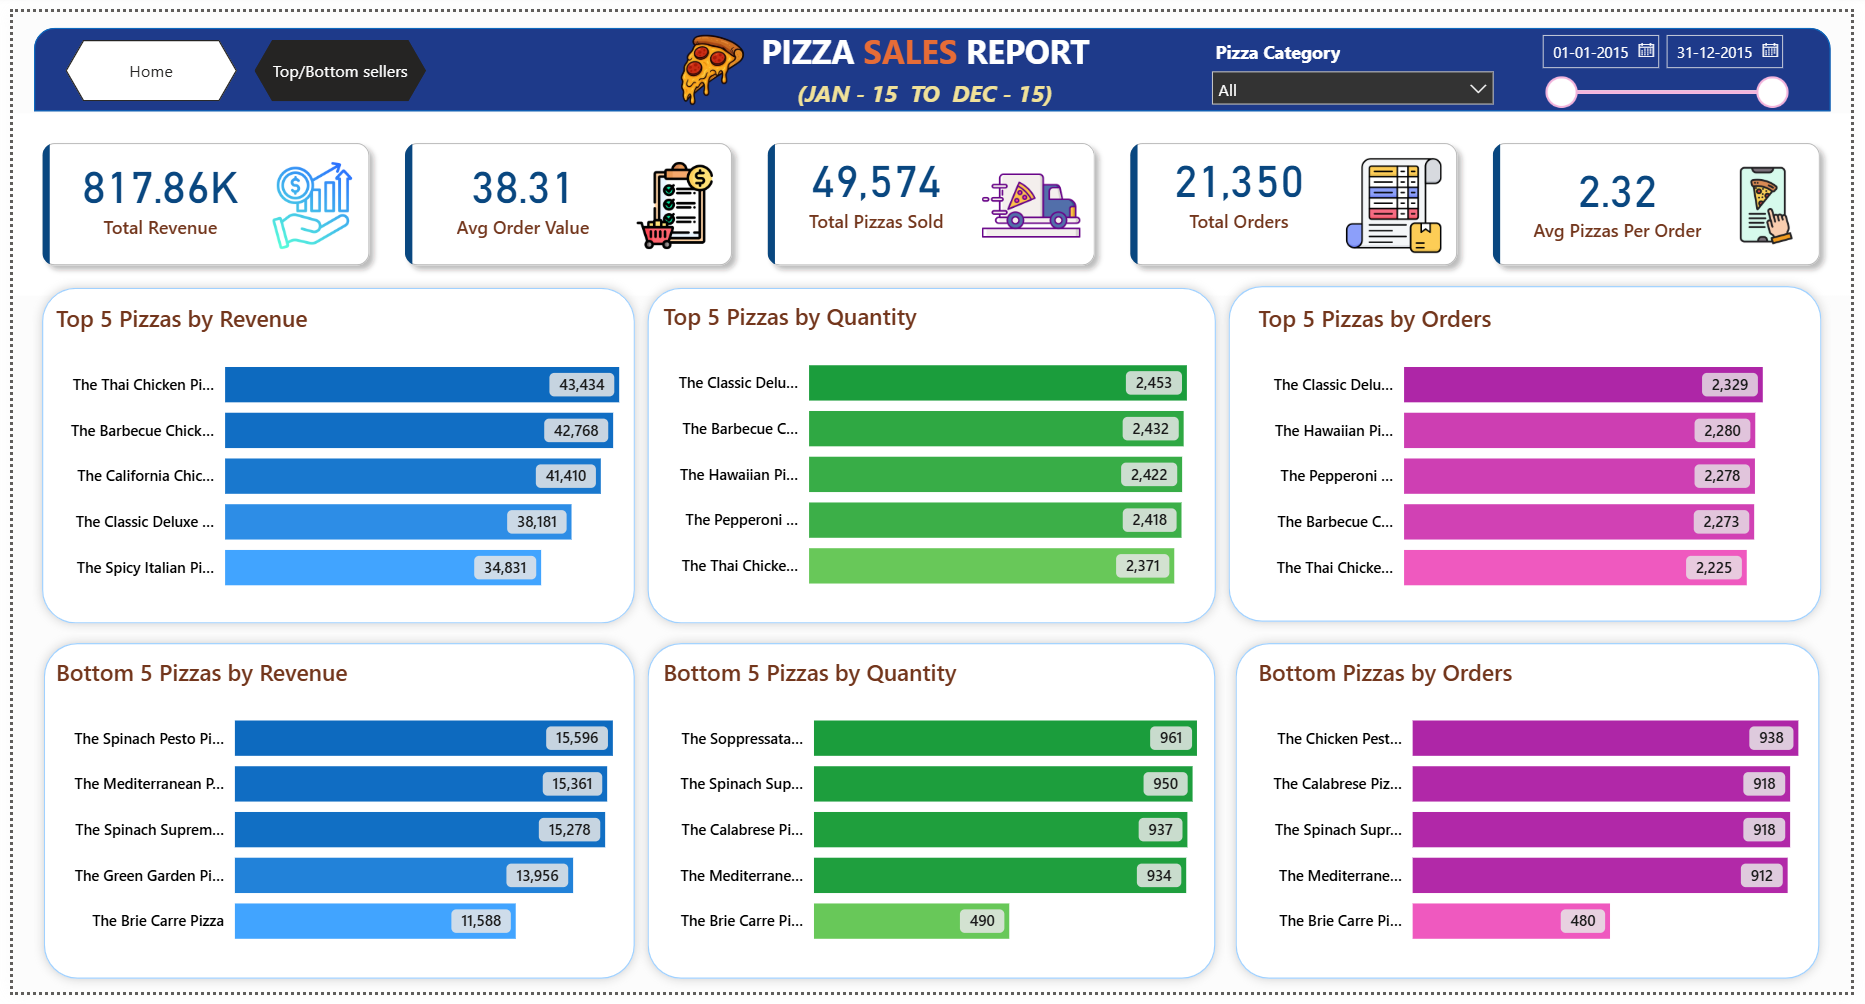

This screenshot's page, from the dashboard's own definition file:
{"tool":"powerbi","page":{"name":"Top/Bottom sellers","canvas":[1500,800],"ordinal":1},"visuals":[{"type":"cardVisual","fields":{"Data":["pizza_sales.Total Revenue","pizza_sales.Avg Order Value","pizza_sales.Total Pizzas Sold","pizza_sales.Total Orders","pizza_sales.Avg Pizzas Per Order"]},"box":[0,83.1,1499.8,148.7],"z":0},{"type":"shape","box":[16.7,13.3,1466.7,68.3],"z":1000},{"type":"textbox","box":[601.7,8.3,286.7,53.3],"z":2000},{"type":"textbox","box":[628.3,48.3,231.7,35],"z":3000},{"type":"image","box":[535,11.7,66.7,71.7],"z":4000},{"type":"shape","box":[16,217.2,499.9,290],"z":5000},{"type":"shape","box":[510.1,217.2,480,290],"z":6000},{"type":"shape","box":[983.8,215.7,500,290],"z":7000},{"type":"shape","box":[17.5,507.2,498.5,290],"z":8000},{"type":"shape","box":[989.7,507.2,492.6,290],"z":9000},{"type":"shape","box":[510.1,507.2,479.5,290],"z":10000},{"type":"slicer","fields":{"Values":["pizza_sales.pizza_category"]},"box":[968.3,16.7,250,63.3],"z":11000},{"type":"slicer","fields":{"Values":["pizza_sales.order_date"]},"box":[1235,8.3,221.7,73.3],"z":12000},{"type":"clusteredBarChart","title":"Top 5 Pizzas by Revenue","fields":{"Y":["pizza_sales.Total Revenue"],"Category":["pizza_sales.pizza_name"]},"box":[30,236.7,518.3,251.7],"z":13000},{"type":"clusteredBarChart","title":"Bottom 5 Pizzas by Revenue","fields":{"Y":["pizza_sales.Total Revenue"],"Category":["pizza_sales.pizza_name"]},"box":[30,525,551.7,251.7],"z":14000},{"type":"clusteredBarChart","title":"Top 5 Pizzas by Quantity","fields":{"Category":["pizza_sales.pizza_name"],"Y":["pizza_sales.Total Pizzas Sold"]},"box":[525,235,443.3,251.7],"z":15000},{"type":"clusteredBarChart","title":"Bottom 5 Pizzas by Quantity","fields":{"Category":["pizza_sales.pizza_name"],"Y":["pizza_sales.Total Pizzas Sold"]},"box":[525,525,458.3,251.7],"z":16000},{"type":"clusteredBarChart","title":"Top 5 Pizzas by Orders","fields":{"Category":["pizza_sales.pizza_name"],"Y":["pizza_sales.Total Orders"]},"box":[1011.7,236.7,443.3,251.7],"z":17000},{"type":"clusteredBarChart","title":"Bottom Pizzas by Orders","fields":{"Category":["pizza_sales.pizza_name"],"Y":["pizza_sales.Total Orders"]},"box":[1011.7,525,471.7,251.7],"z":18000},{"type":"pageNavigator","box":[43.3,23.3,140,50],"z":19000},{"type":"pageNavigator","box":[196.7,23.3,140,50],"z":20000}]}

Visuals, with their boxes in screenshot pixels (x1, y1, x2, y2), scaled from the page's 1500x800 canvas onto the 1865x1004 screenshot:
cardVisual - pizza_sales.Total Revenue x pizza_sales.Avg Order Value: <box>0,104,1864,291</box>
shape: <box>21,17,1844,102</box>
textbox: <box>748,10,1105,77</box>
textbox: <box>781,61,1069,105</box>
image: <box>665,15,748,105</box>
shape: <box>20,273,641,637</box>
shape: <box>634,273,1231,637</box>
shape: <box>1223,271,1845,635</box>
shape: <box>22,637,642,1000</box>
shape: <box>1231,637,1843,1000</box>
shape: <box>634,637,1230,1000</box>
slicer - pizza_sales.pizza_category: <box>1204,21,1515,100</box>
slicer - pizza_sales.order_date: <box>1536,10,1811,102</box>
"Top 5 Pizzas by Revenue" clusteredBarChart: <box>37,297,682,613</box>
"Bottom 5 Pizzas by Revenue" clusteredBarChart: <box>37,659,723,975</box>
"Top 5 Pizzas by Quantity" clusteredBarChart: <box>653,295,1204,611</box>
"Bottom 5 Pizzas by Quantity" clusteredBarChart: <box>653,659,1223,975</box>
"Top 5 Pizzas by Orders" clusteredBarChart: <box>1258,297,1809,613</box>
"Bottom Pizzas by Orders" clusteredBarChart: <box>1258,659,1844,975</box>
pageNavigator: <box>54,29,228,92</box>
pageNavigator: <box>245,29,419,92</box>
